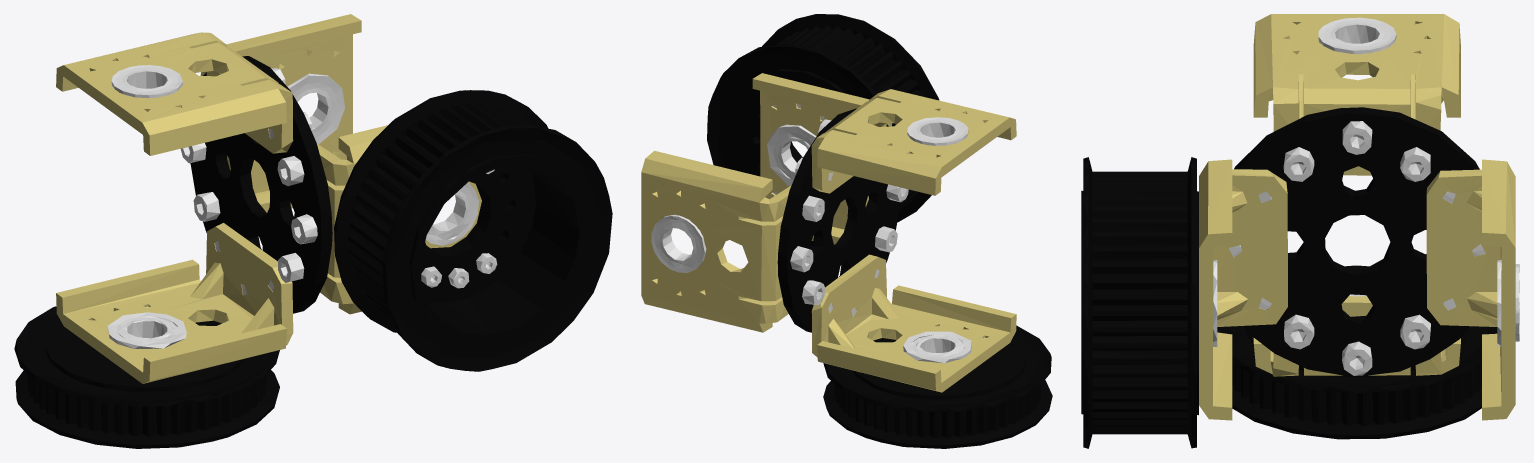
The model's file is joint_junction_link_large_pitch_pulley.dae.
3 views of the same model, side by side, from view 1: azimuth 30°, elevation 25°; view 2: azimuth 150°, elevation 25°; view 3: azimuth 270°, elevation 25° (orthographic). The views are drawn at different scales.
Parts seen in each view (by area): view 1: joint_junction_link_large_black, joint_junction_link_gold, joint_junction_link_large_grey; view 2: joint_junction_link_gold, joint_junction_link_large_black, joint_junction_link_large_grey; view 3: joint_junction_link_large_black, joint_junction_link_gold, joint_junction_link_large_grey.
Part boxes in pixels (left/top/right/bottom): joint_junction_link_large_black: left=14, top=56, right=612, bottom=448; joint_junction_link_gold: left=56, top=14, right=481, bottom=383; joint_junction_link_large_grey: left=107, top=65, right=497, bottom=348; joint_junction_link_gold: left=641, top=73, right=1016, bottom=392; joint_junction_link_large_black: left=707, top=14, right=1052, bottom=448; joint_junction_link_large_grey: left=651, top=104, right=986, bottom=363; joint_junction_link_large_black: left=1081, top=107, right=1497, bottom=448; joint_junction_link_gold: left=1199, top=14, right=1515, bottom=420; joint_junction_link_large_grey: left=1213, top=17, right=1519, bottom=375.
Bounding box in the file's own units: 0.1035 × 0.0783 × 0.0679.
